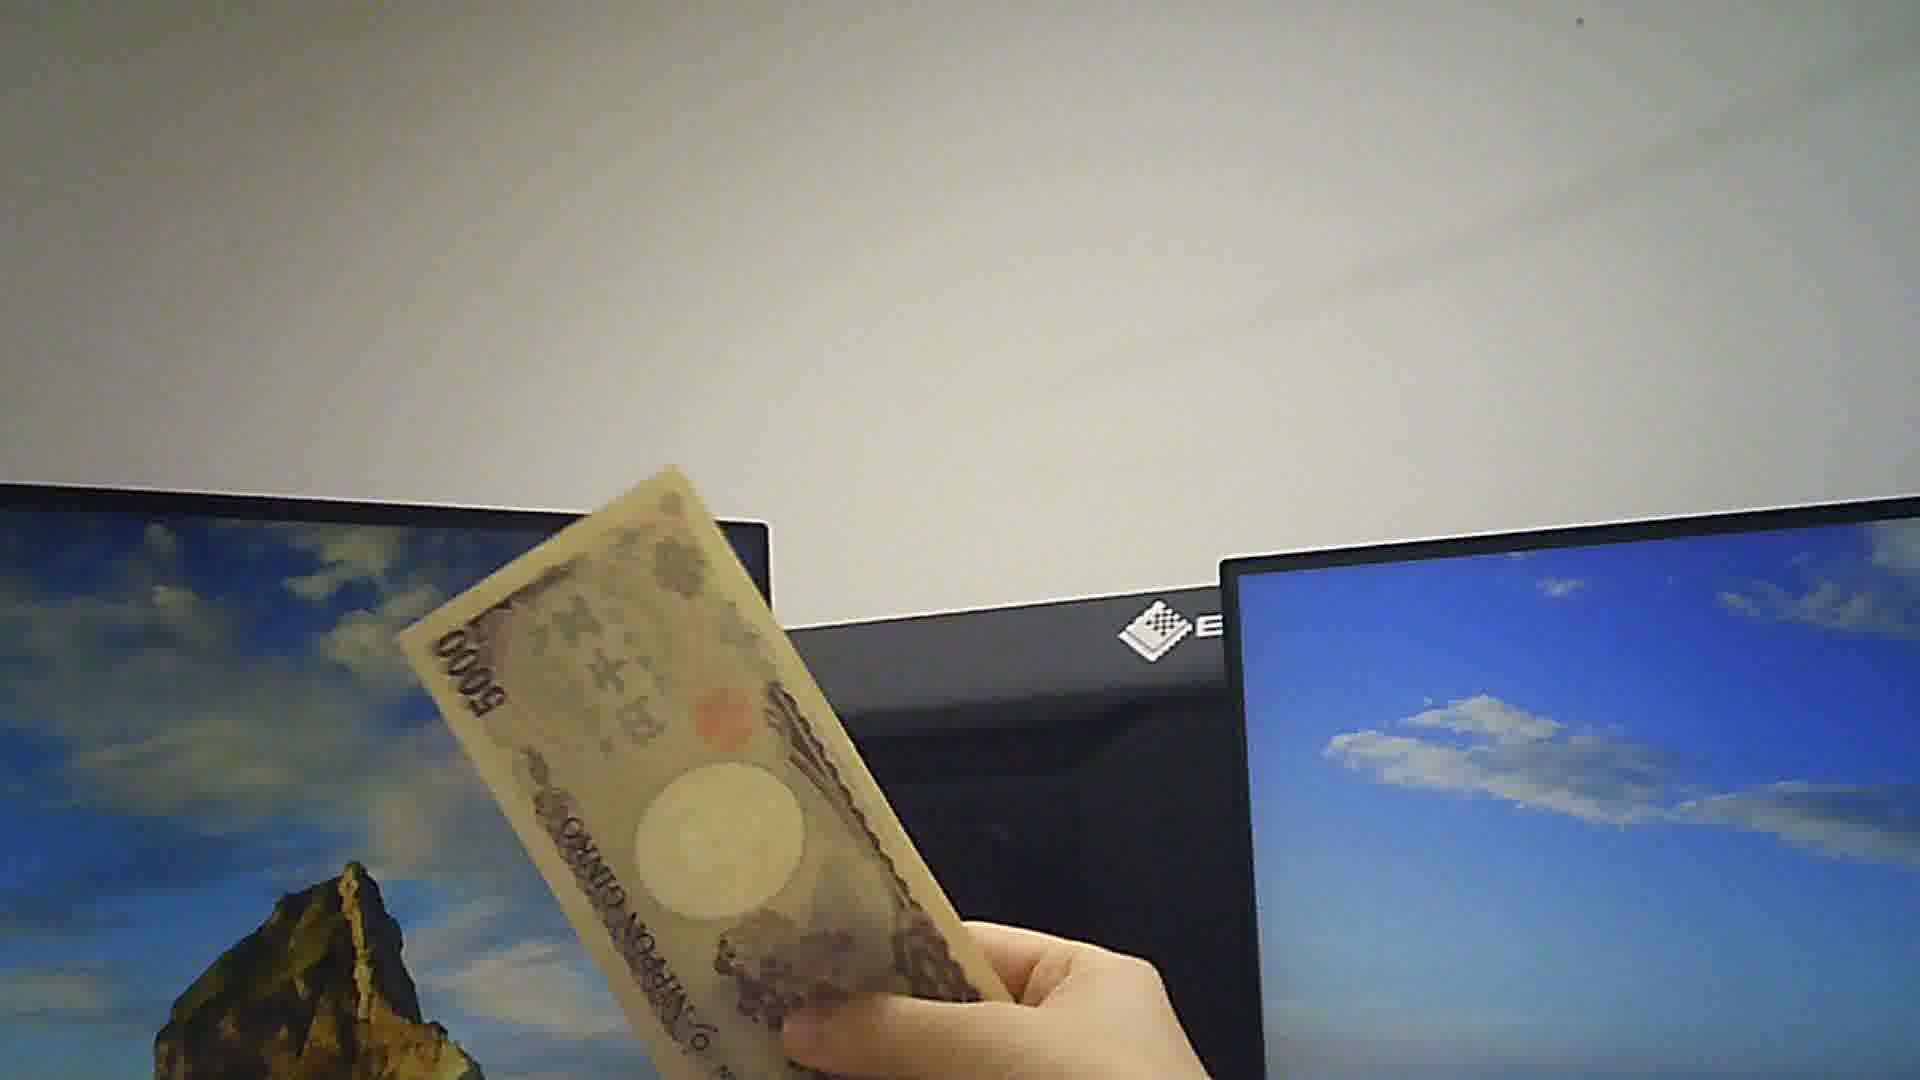5,000 Yen: (385, 462, 982, 1079)
